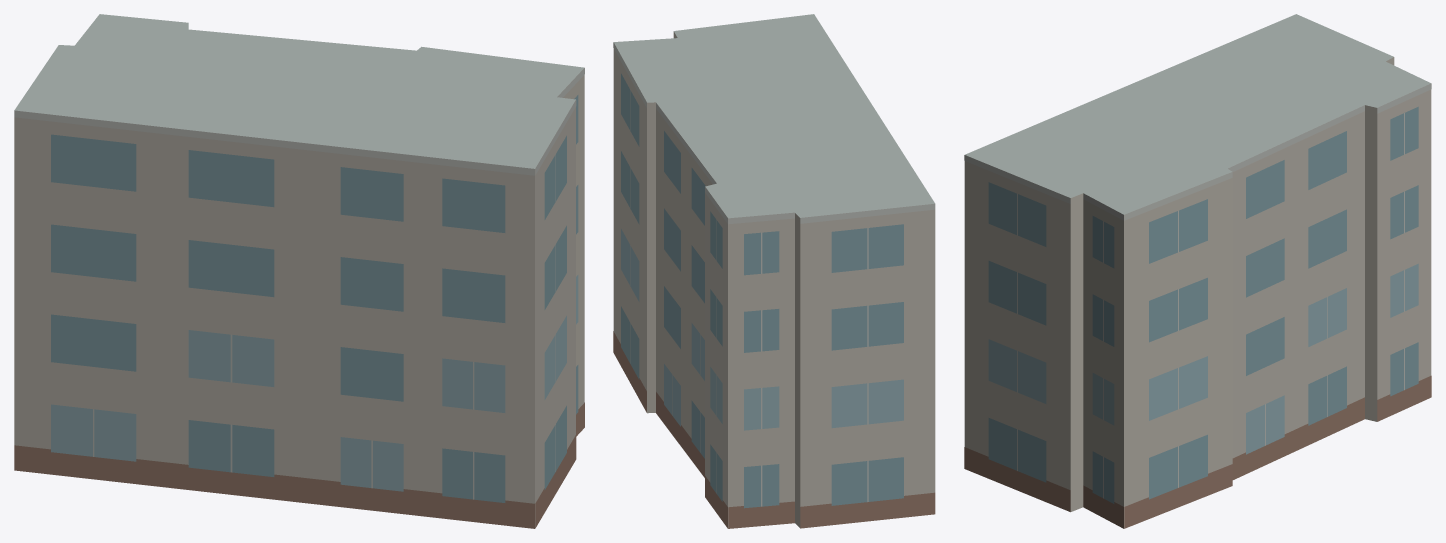
The model's file is survey-upis-33025082.glb.
3 renders of one model, left to right at view 1: azimuth 30°, elevation 25°; view 2: azimuth 150°, elevation 25°; view 3: azimuth 270°, elevation 25°, orthographic. The views are drawn at different scales.
Visible parts, largest first — view 1: survey-upis-33025082.tmp; view 2: survey-upis-33025082.tmp; view 3: survey-upis-33025082.tmp.
Boxes of the visible parts, x1,y1,x2,y2 form: survey-upis-33025082.tmp: (14,14,584,528); survey-upis-33025082.tmp: (613,14,935,528); survey-upis-33025082.tmp: (964,14,1431,528).
Bounding box in the file's own units: 17.56 × 12.8 × 17.25.
